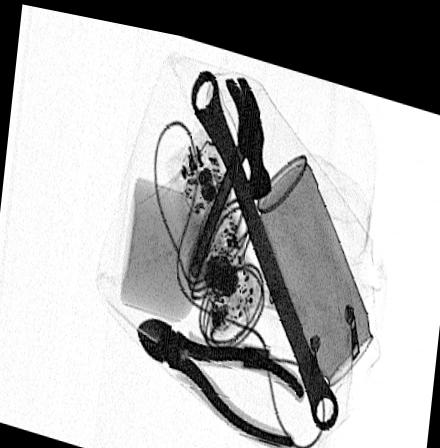Hammer: (187, 66, 273, 275)
Pliers: (133, 308, 306, 442)
Wrench: (192, 59, 342, 420)
